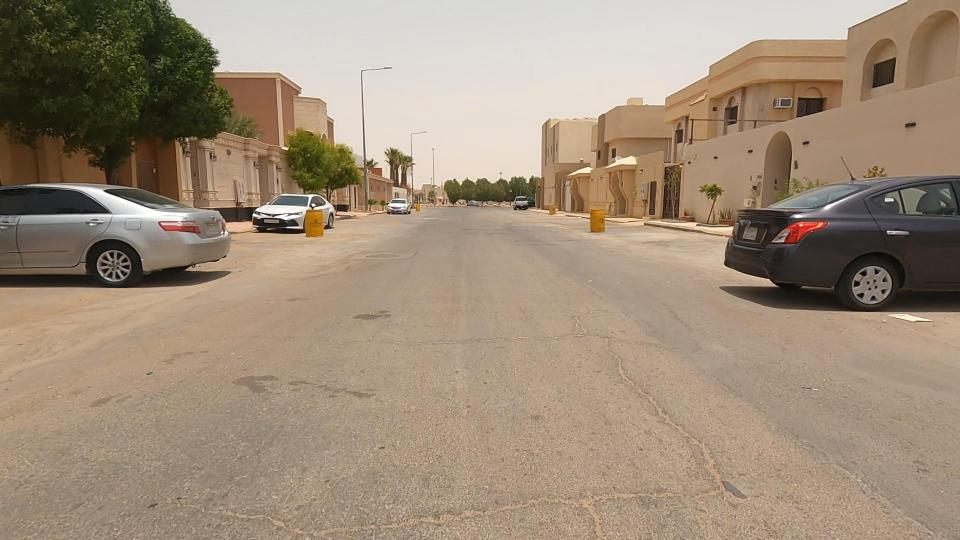POTHOLES: (575, 326, 784, 540)
